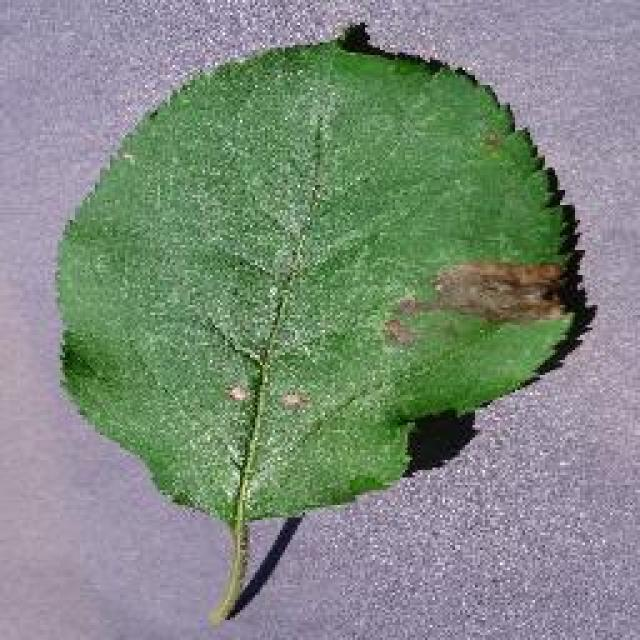apple scab disease: (50, 18, 595, 620)
